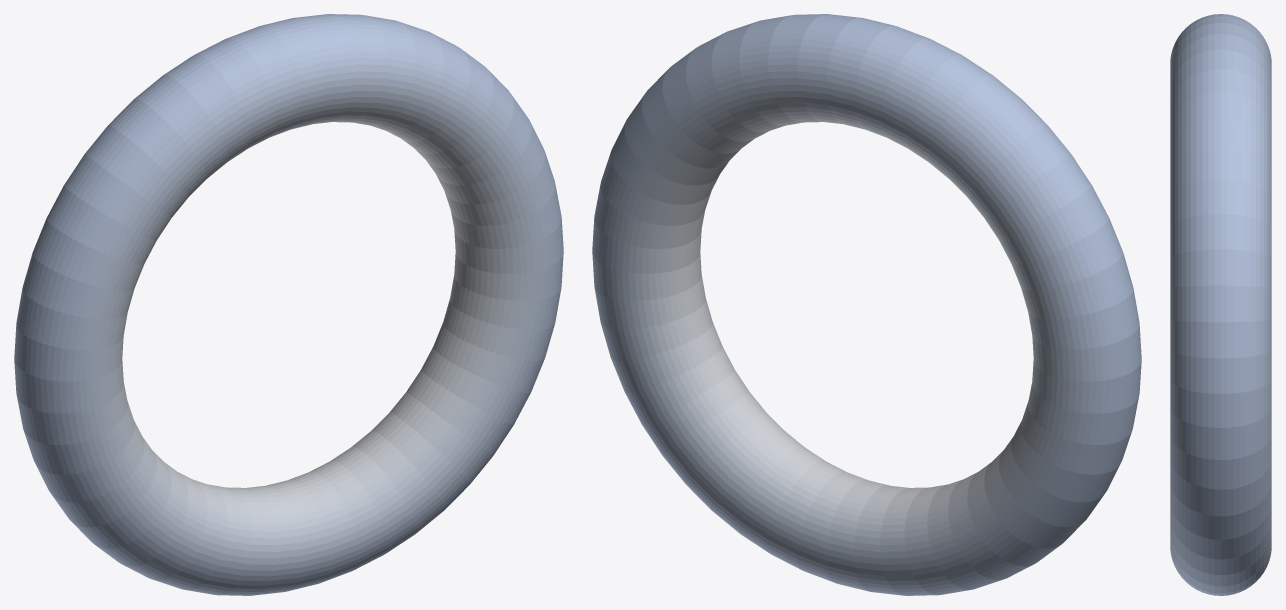
3 views of the same model, side by side, from view 1: azimuth 30°, elevation 25°; view 2: azimuth 150°, elevation 25°; view 3: azimuth 270°, elevation 25° (orthographic). The views are drawn at different scales.
Parts seen in each view (by area): view 1: world; view 2: world; view 3: world.
Boxes of the visible parts, x1,y1,x2,y2 form: world: (14,14,563,595); world: (592,14,1141,595); world: (1170,14,1271,595).
Size of the model in its own units: 26.67 by 26.61 by 4.66.
